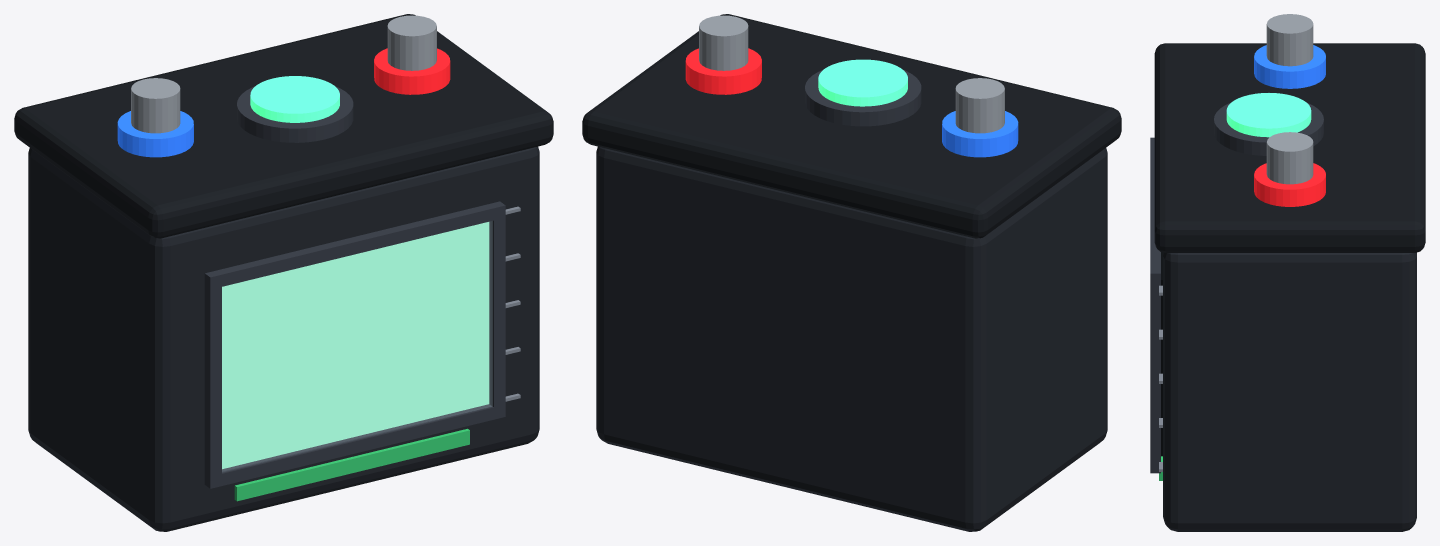
File: bateria_coche.glb
3 views of the same model, side by side, from view 1: azimuth 30°, elevation 25°; view 2: azimuth 150°, elevation 25°; view 3: azimuth 270°, elevation 25° (orthographic). The views are drawn at different scales.
Parts seen in each view (by area): view 1: Cube, Cube.001, Cube.003, liquido, Cube.004, Cube.005, Cube.013, Cube.006, boton, Cube.007, Cylinder.004, Cylinder (+3 smaller); view 2: Cube, Cube.001, boton, Cylinder.004, Cylinder, Cylinder.002, Cylinder.001, Cylinder.003; view 3: Cube, Cube.001, boton, Cylinder, Cylinder.002, Cube.007, Cylinder.003, Cylinder.001, Cylinder.004, Cube.004, Cube.002.
Boxes of the visible parts, x1,y1,x2,y2 form: Cube: [28, 146, 539, 531]; Cube.001: [14, 14, 553, 238]; Cube.003: [222, 221, 492, 471]; liquido: [222, 222, 489, 469]; Cube.004: [205, 201, 505, 289]; Cube.005: [210, 404, 505, 488]; Cube.013: [234, 428, 469, 501]; Cube.006: [204, 273, 221, 488]; boton: [250, 76, 339, 122]; Cube.007: [489, 213, 505, 419]; Cylinder.004: [237, 86, 353, 142]; Cylinder: [387, 15, 436, 70]; Cube: [596, 146, 1107, 531]; Cube.001: [582, 14, 1121, 238]; boton: [818, 59, 907, 106]; Cylinder.004: [805, 70, 921, 126]; Cylinder: [699, 15, 748, 70]; Cylinder.002: [955, 78, 1004, 133]; Cylinder.001: [685, 48, 761, 94]; Cylinder.003: [942, 111, 1018, 157]; Cube: [1163, 252, 1416, 531]; Cube.001: [1154, 43, 1425, 252]; boton: [1226, 93, 1311, 137]; Cylinder: [1266, 132, 1313, 184]; Cylinder.002: [1266, 14, 1313, 66]; Cube.007: [1150, 268, 1160, 473]; Cylinder.003: [1254, 45, 1325, 88]; Cylinder.001: [1254, 163, 1325, 206]; Cylinder.004: [1214, 102, 1323, 155]; Cube.004: [1150, 137, 1160, 285]; Cube.002: [1161, 252, 1162, 456].
Size of the model in its own units: 2.08 by 1.9 by 1.3.
